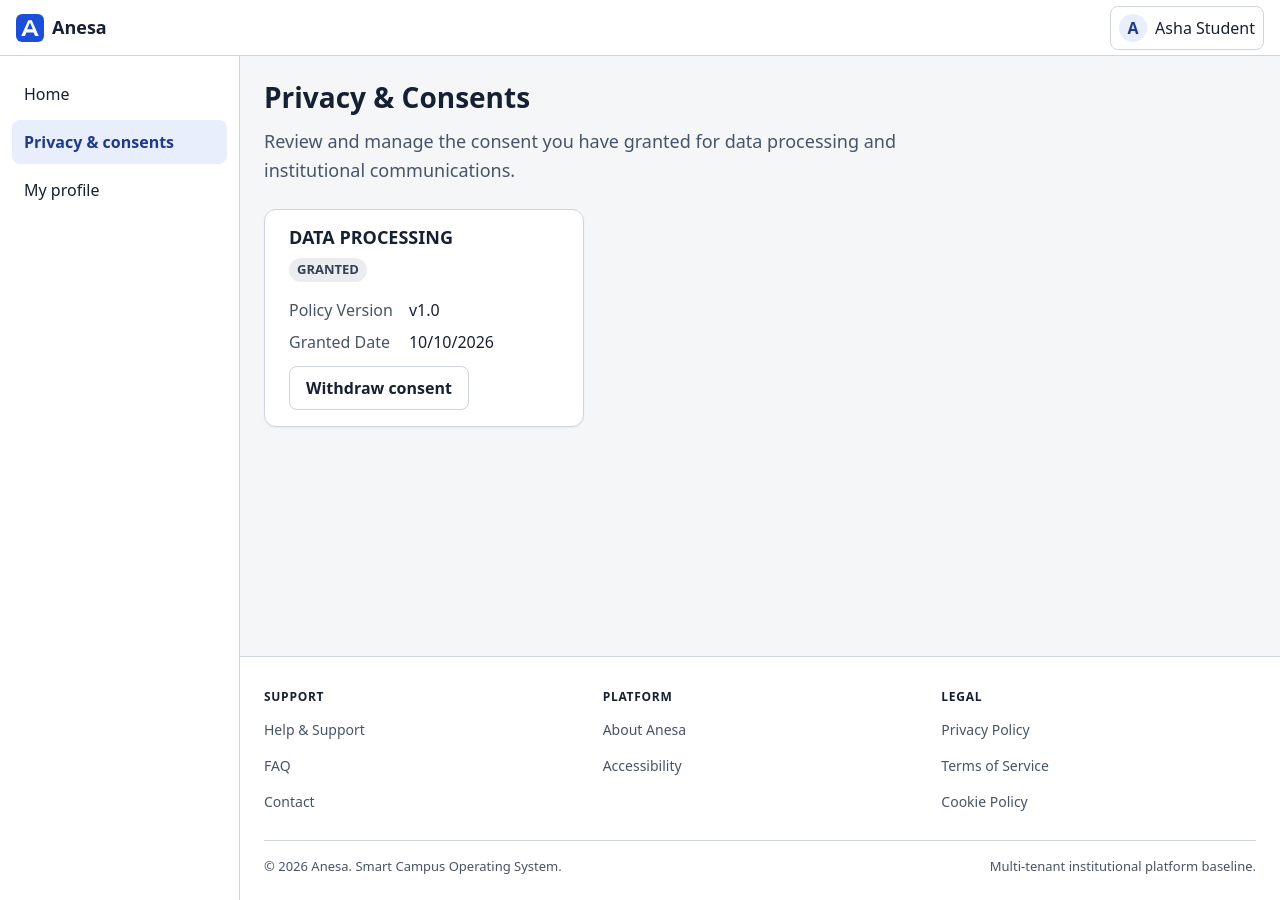
Test: Phase 1 Pages (Web Integration) › ConsentsPage › renders active consents and allows withdrawal
This screenshot has width=1280, height=900.
Expected: the heading "DATA PROCESSING" is shown, [289,225,453,249]
Expected: the text "GRANTED" is shown, [289,258,367,282]
Click the button "Withdraw consent" at point(379, 388), box [289,366,469,410]
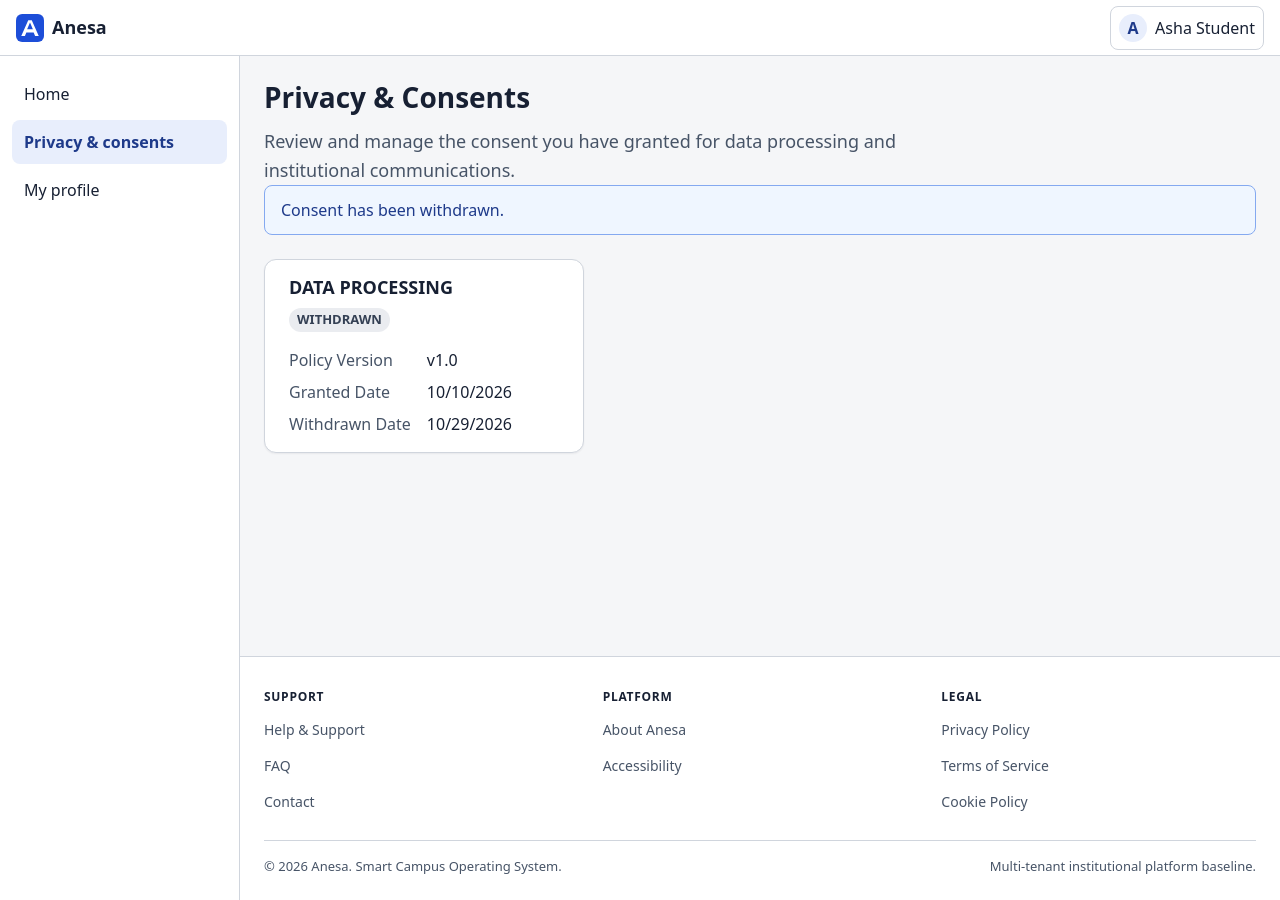
Now the text "WITHDRAWN" is shown, box [289,308,390,332]
Now the text "Consent has been withdrawn." is shown, box [264,185,1256,235]
